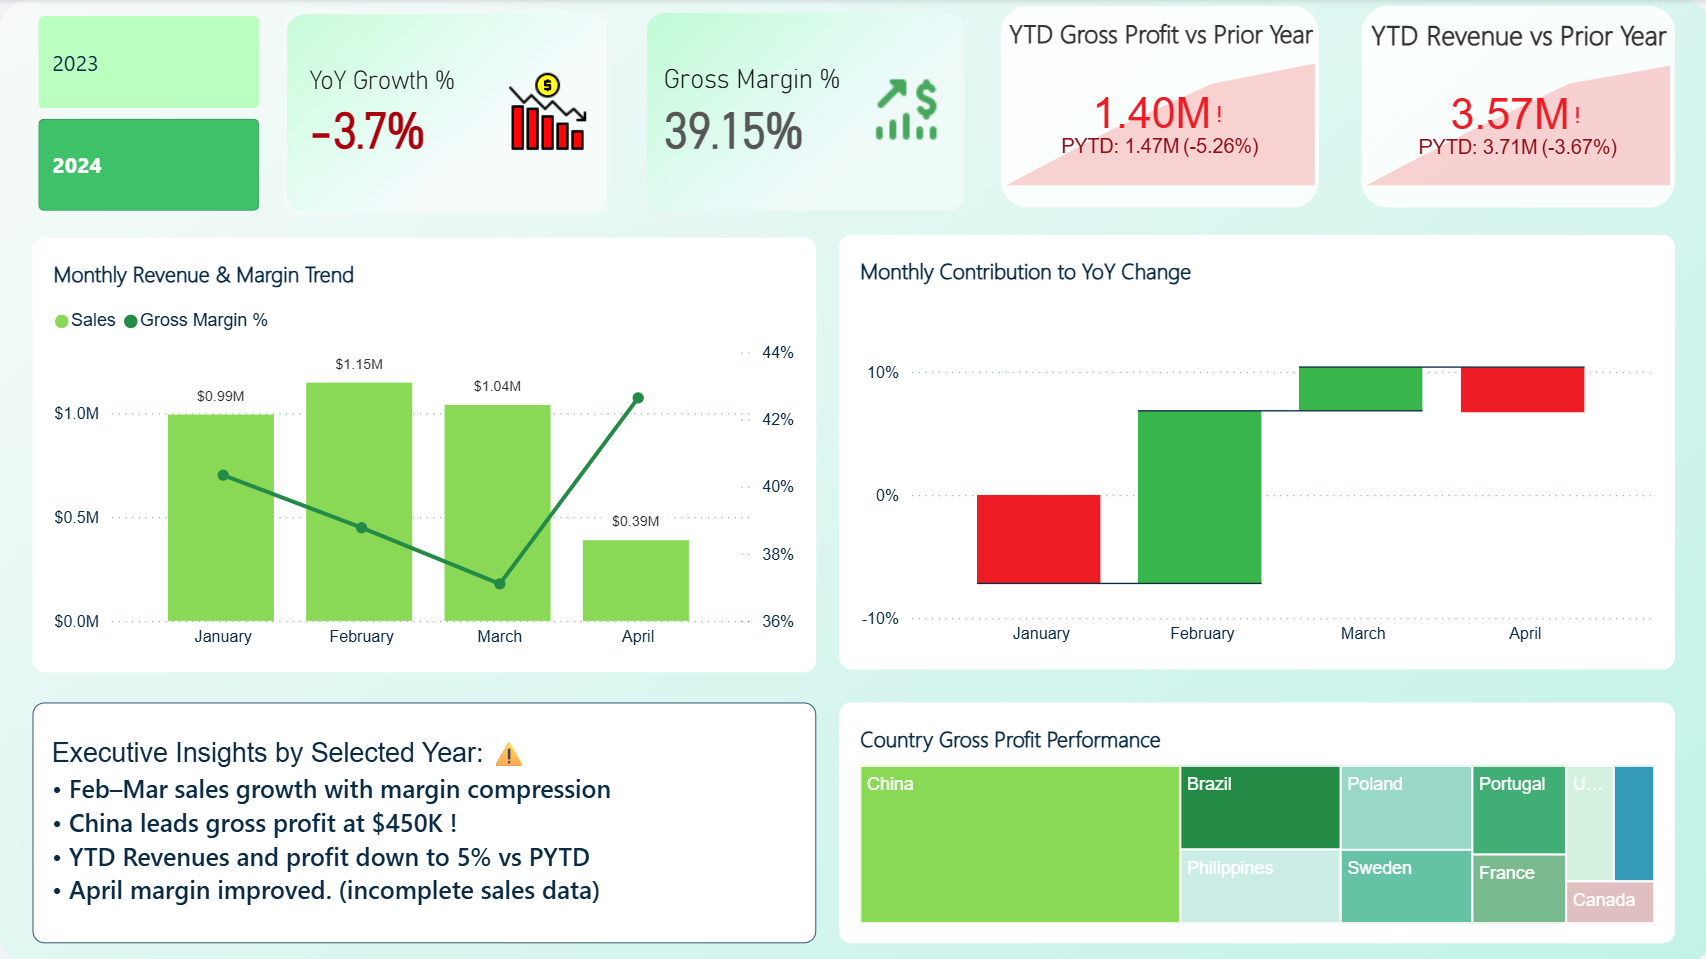

Layout of this report page (visuals, bound fields, positions):
{"tool":"powerbi","page":{"name":"Performance Overview","canvas":[1280,720],"ordinal":0},"visuals":[{"type":"image","box":[0,0,1279.5,720.5],"z":0},{"type":"advancedSlicerVisual","fields":{"Values":["Dim_Date.Year Hierarchy.Year"]},"box":[24.8,8.3,173.9,154.6],"z":1000},{"type":"cardVisual","title":"YoY Growth %","fields":{"Data":["_Calculations.YoY Growth %"]},"box":[211.2,8.3,245.7,154],"z":2000},{"type":"kpi","title":"YTD Gross Profit vs Prior Year","fields":{"Indicator":["_Calculations.YTD_Gross_Profit"],"Goal":["_Calculations.PYTD_GrossProfit"],"TrendLine":["Dim_Date.MonthName"]},"box":[748.1,5.5,237.4,150.4],"z":3000},{"type":"waterfallChart","title":"Monthly Contribution to YoY Change","fields":{"Category":["Dim_Date.Year Hierarchy.Year","Dim_Date.MonthName"],"Y":["_Calculations.YoY Growth %"]},"box":[628,176.7,623,324.4],"z":4000},{"type":"lineClusteredColumnComboChart","title":"Monthly Revenue & Margin Trend","fields":{"Category":["Dim_Date.MonthName","Dim_Date.Quarter"],"Y":["_Calculations.Sales"],"Y2":["_Calculations.Gross Margin %"]},"box":[24.8,178,585.2,324.3],"z":5000},{"type":"treemap","title":"Country Gross Profit Performance","fields":{"Group":["Accounts.country"],"Values":["_Calculations.Gross Profit"]},"box":[628,525.9,623,180],"z":6000},{"type":"kpi","title":"YTD Revenue vs Prior Year","fields":{"Indicator":["_Calculations.YTD_Sales"],"Goal":["_Calculations.PYTD_Sales"],"TrendLine":["Dim_Date.MonthName"]},"box":[1017.2,5.5,233.3,150.4],"z":7000},{"type":"cardVisual","title":"Gross Margin %","fields":{"Data":["_Calculations.Gross Margin %"]},"box":[480.3,6.9,244.3,154],"z":8000},{"type":"cardVisual","fields":{"Data":["_Calculations.Insights Ber Year"]},"box":[24.8,525.9,585.2,180],"z":9000}]}

Visuals, with their boxes in screenshot pixels (x1, y1, x2, y2), scaled from the page's 1280x720 canvas onto the 1706x959 screenshot:
image: <bbox>0, 0, 1705, 958</bbox>
advancedSlicerVisual - Dim_Date.Year Hierarchy.Year: <bbox>33, 11, 265, 217</bbox>
"YoY Growth %" cardVisual: <bbox>281, 11, 609, 216</bbox>
"YTD Gross Profit vs Prior Year" kpi: <bbox>997, 7, 1313, 208</bbox>
"Monthly Contribution to YoY Change" waterfallChart: <bbox>837, 235, 1667, 667</bbox>
"Monthly Revenue & Margin Trend" lineClusteredColumnComboChart: <bbox>33, 237, 813, 669</bbox>
"Country Gross Profit Performance" treemap: <bbox>837, 700, 1667, 940</bbox>
"YTD Revenue vs Prior Year" kpi: <bbox>1356, 7, 1667, 208</bbox>
"Gross Margin %" cardVisual: <bbox>640, 9, 966, 214</bbox>
cardVisual - _Calculations.Insights Ber Year: <bbox>33, 700, 813, 940</bbox>
